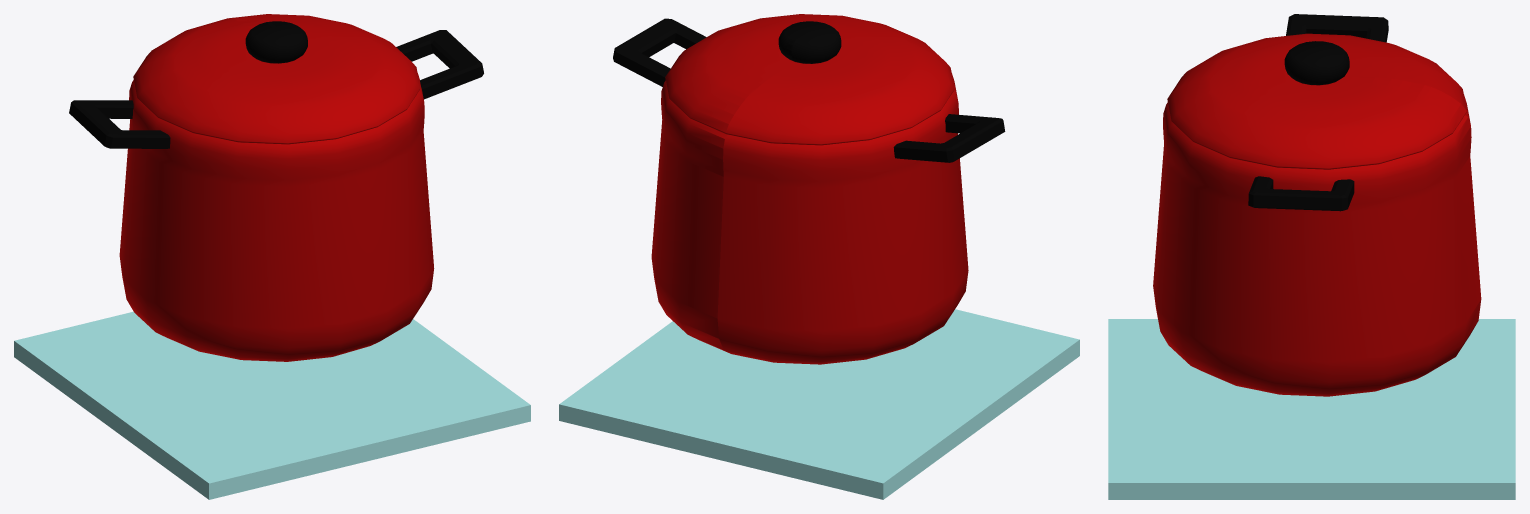
File: olla.DAE
3 renders of one model, left to right at view 1: azimuth 30°, elevation 25°; view 2: azimuth 150°, elevation 25°; view 3: azimuth 270°, elevation 25°, orthographic. The views are drawn at different scales.
Visible parts, largest first — view 1: fraktal_61, Box001; view 2: fraktal_61, Box001; view 3: fraktal_61, Box001.
Boxes of the visible parts, <box> form: fraktal_61: <box>69,14,483,361</box>; Box001: <box>14,311,530,499</box>; fraktal_61: <box>613,14,1005,364</box>; Box001: <box>559,309,1079,499</box>; fraktal_61: <box>1153,14,1481,396</box>; Box001: <box>1108,319,1515,499</box>.
Size of the model in its own units: 152 by 140 by 140.
